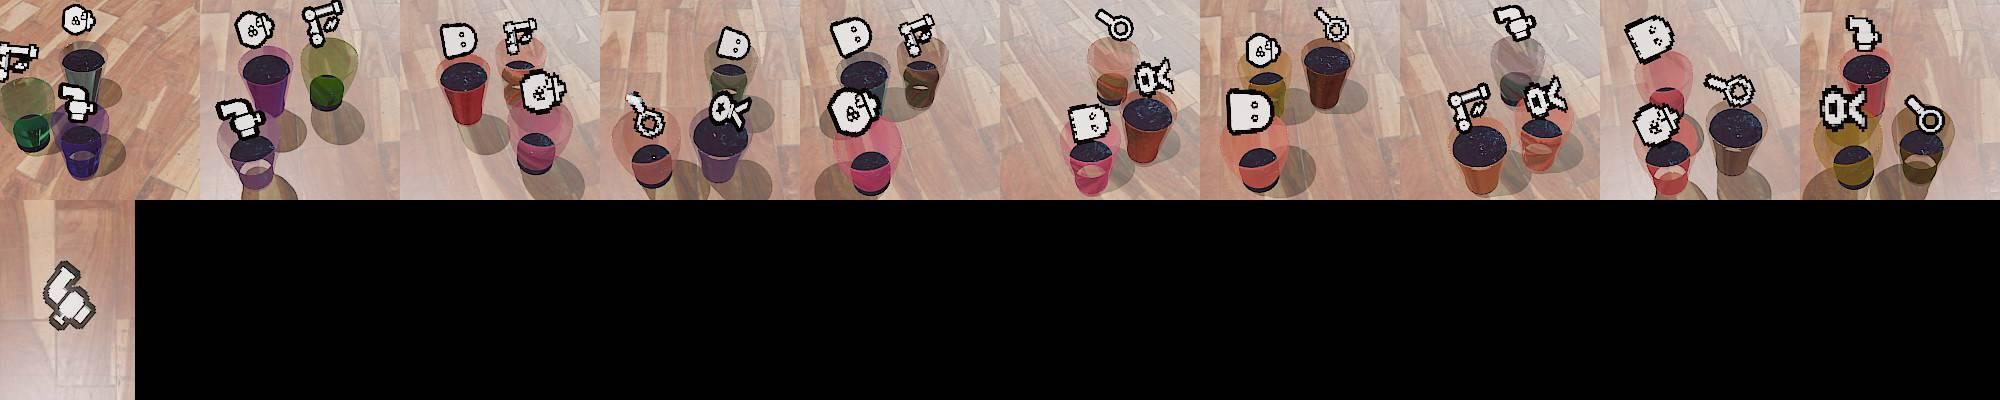icon: (41, 260, 97, 332), (827, 87, 880, 136), (1624, 14, 1675, 64), (1446, 79, 1494, 132), (1819, 83, 1870, 131), (213, 96, 267, 141), (1226, 85, 1274, 135), (518, 68, 569, 113), (1633, 102, 1684, 148), (624, 89, 667, 139), (1522, 73, 1566, 120), (828, 15, 872, 61), (1704, 71, 1758, 110), (1066, 99, 1112, 144), (301, 0, 344, 47), (708, 92, 753, 132), (1491, 3, 1536, 43), (898, 11, 936, 57), (1906, 93, 1946, 134), (233, 10, 276, 50), (1133, 56, 1175, 96), (1314, 5, 1353, 45), (439, 22, 478, 60), (0, 41, 40, 79), (57, 82, 96, 121), (1242, 32, 1281, 70), (501, 18, 538, 57), (1096, 6, 1135, 43), (1844, 15, 1881, 54), (714, 25, 751, 61), (61, 4, 96, 36)
